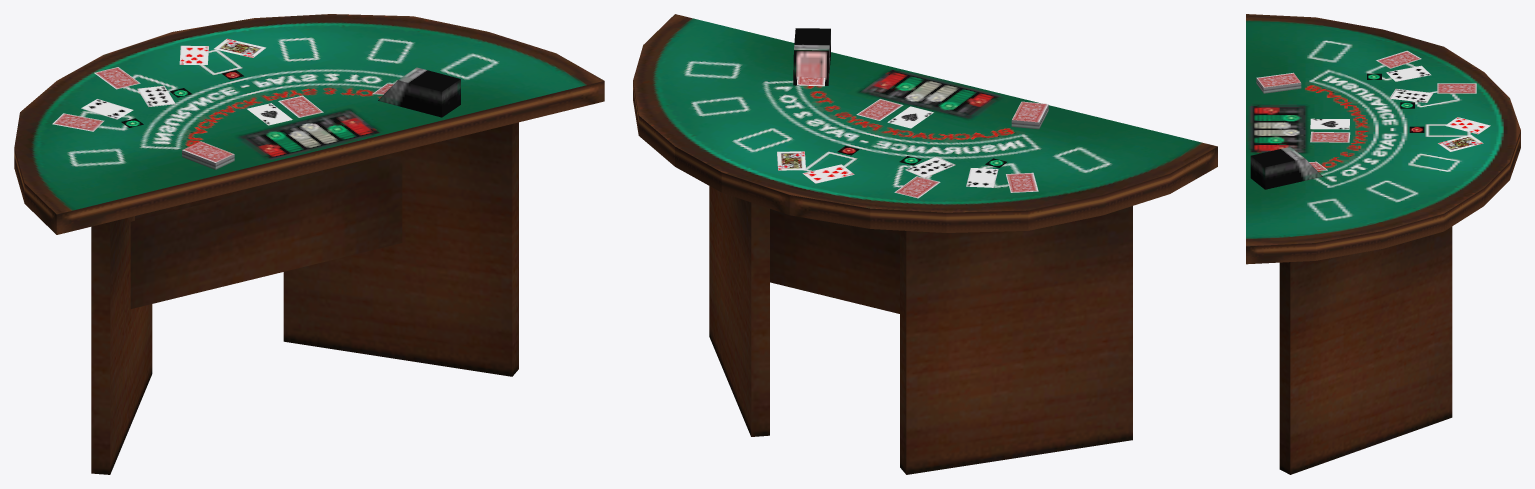
File: blackjack2.fbx
3 renders of one model, left to right at view 1: azimuth 30°, elevation 25°; view 2: azimuth 150°, elevation 25°; view 3: azimuth 270°, elevation 25°, orthographic. The views are drawn at different scales.
Parts seen in each view (by area): view 1: mesh_0; view 2: mesh_0; view 3: mesh_0.
Boxes of the visible parts, x1,y1,x2,y2 form: mesh_0: (14, 14, 604, 474); mesh_0: (633, 14, 1217, 474); mesh_0: (1246, 14, 1520, 474).
Size of the model in its own units: 196 by 109 by 98.05.
Materials: 1 (1 with a texture image).
